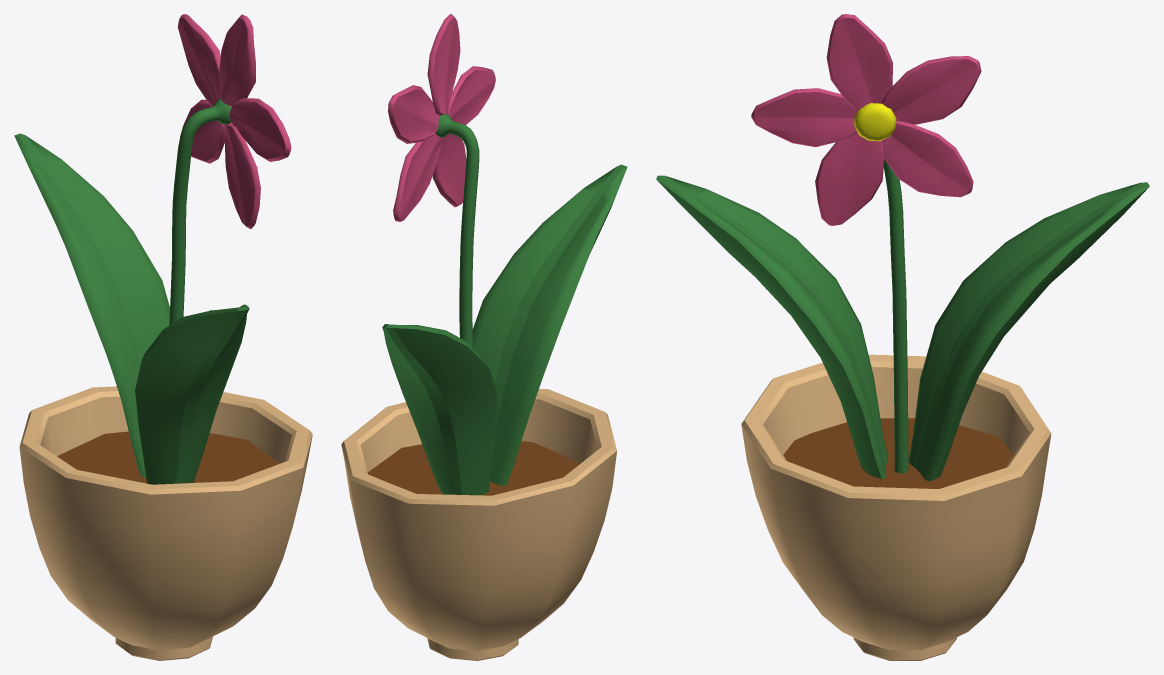
The model's file is Plant_3.fbx.
3 renders of one model, left to right at view 1: azimuth 30°, elevation 25°; view 2: azimuth 150°, elevation 25°; view 3: azimuth 270°, elevation 25°, orthographic. The views are drawn at different scales.
Visible parts, largest first — view 1: Plant_3; view 2: Plant_3; view 3: Plant_3.
Boxes of the visible parts, <box> form: Plant_3: <box>14,14,312,660</box>; Plant_3: <box>341,14,627,660</box>; Plant_3: <box>656,14,1149,660</box>.
Bounding box in the file's own units: 0.2069 × 0.5063 × 0.3465.
